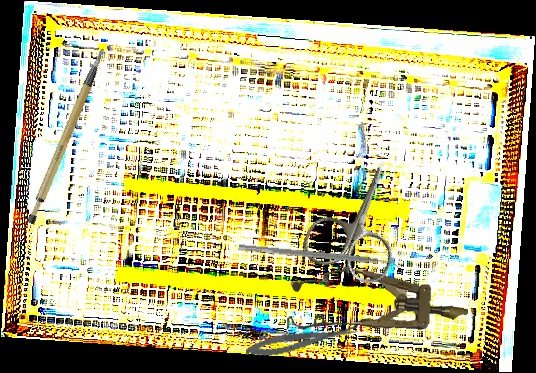Iris Scissors: (297, 144, 426, 290)
Micro Scissor: (244, 321, 361, 361)
Scalpel Handle: (4, 47, 133, 227)
Spatula Surgical: (237, 243, 401, 272)
Speculum: (286, 262, 471, 347)
